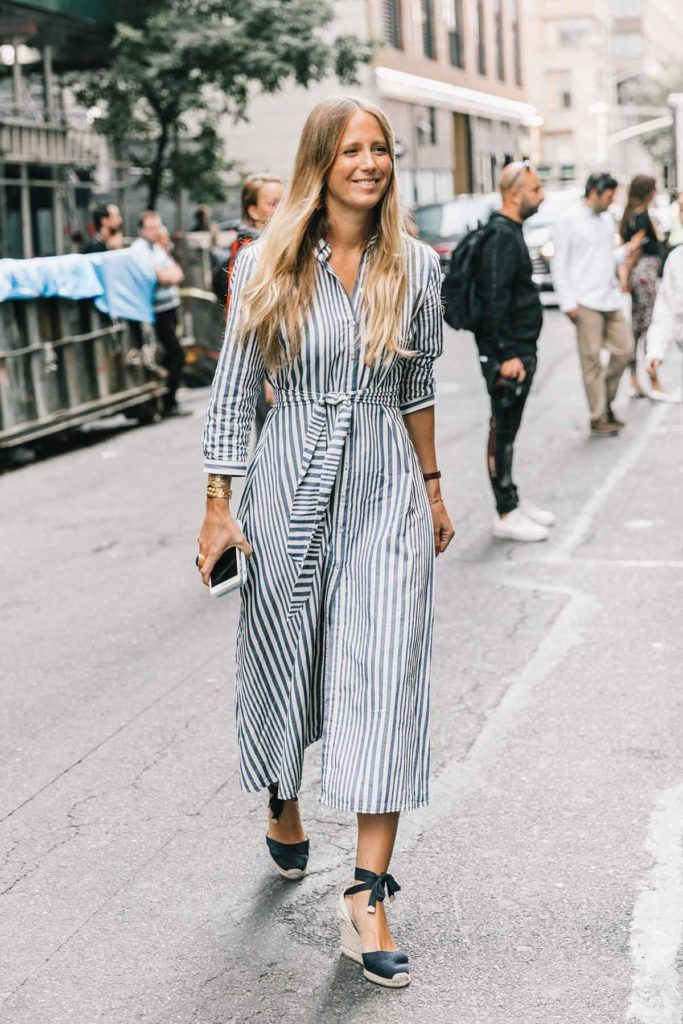person: (189, 84, 455, 998), (427, 153, 566, 551), (555, 163, 634, 433)
